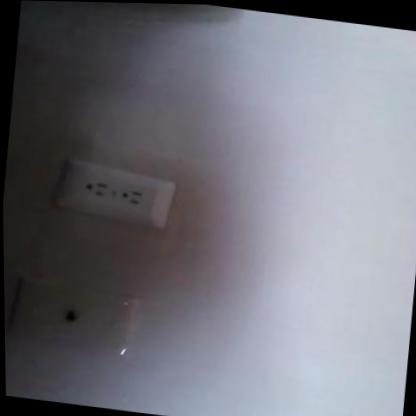OUTLET: (53, 155, 180, 230)
